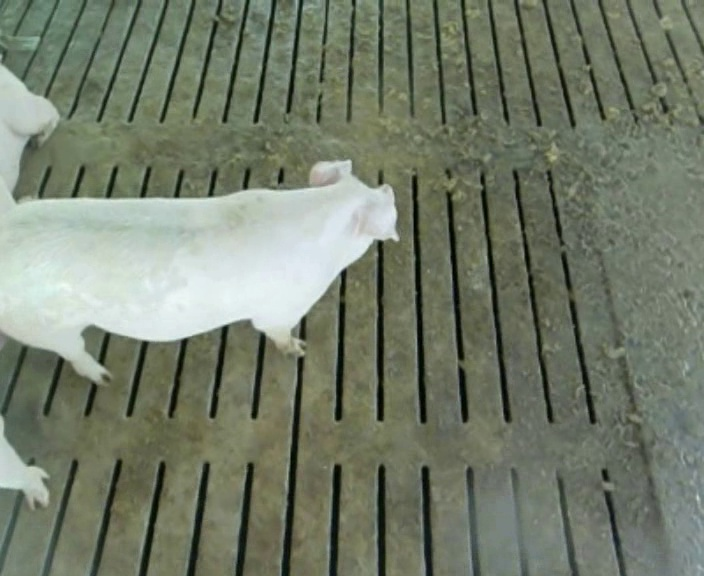pig: (0, 161, 397, 383)
